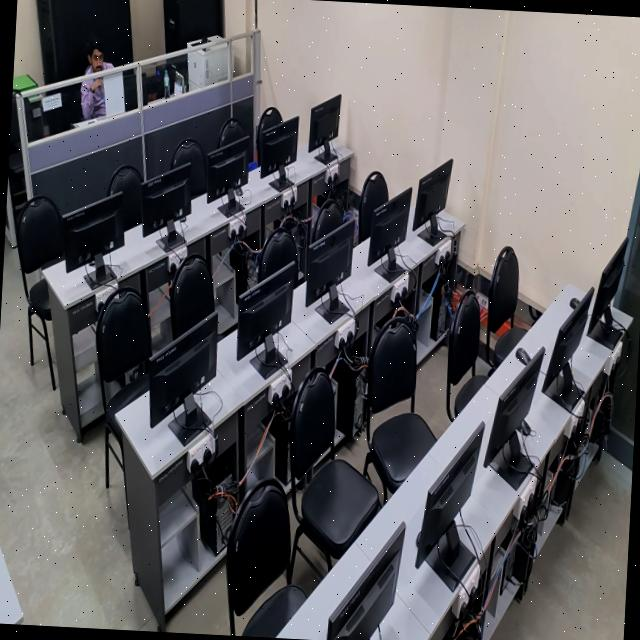Chair: (286, 369, 379, 583), (363, 315, 436, 505), (95, 286, 151, 487), (226, 476, 290, 636), (15, 195, 63, 389), (446, 289, 487, 420), (487, 245, 525, 366), (168, 253, 214, 338), (241, 583, 306, 638), (257, 227, 297, 284), (358, 170, 388, 242), (109, 165, 142, 229), (171, 137, 206, 197), (256, 106, 281, 164), (310, 197, 342, 241), (218, 117, 248, 145), (9, 93, 19, 144)
Cpu: (333, 358, 359, 438), (216, 497, 233, 538), (436, 285, 446, 335)
Monitor: (415, 421, 482, 566), (148, 313, 217, 442), (327, 527, 403, 640), (483, 347, 544, 466), (236, 258, 295, 359), (63, 191, 124, 283), (541, 287, 593, 392), (305, 220, 353, 308), (141, 162, 190, 247), (587, 237, 627, 332), (255, 106, 298, 189), (412, 158, 452, 244), (367, 187, 410, 265), (308, 94, 341, 163), (207, 151, 245, 201), (564, 368, 571, 394)
Mouse: (513, 346, 530, 364), (516, 418, 535, 434), (569, 296, 578, 307)
